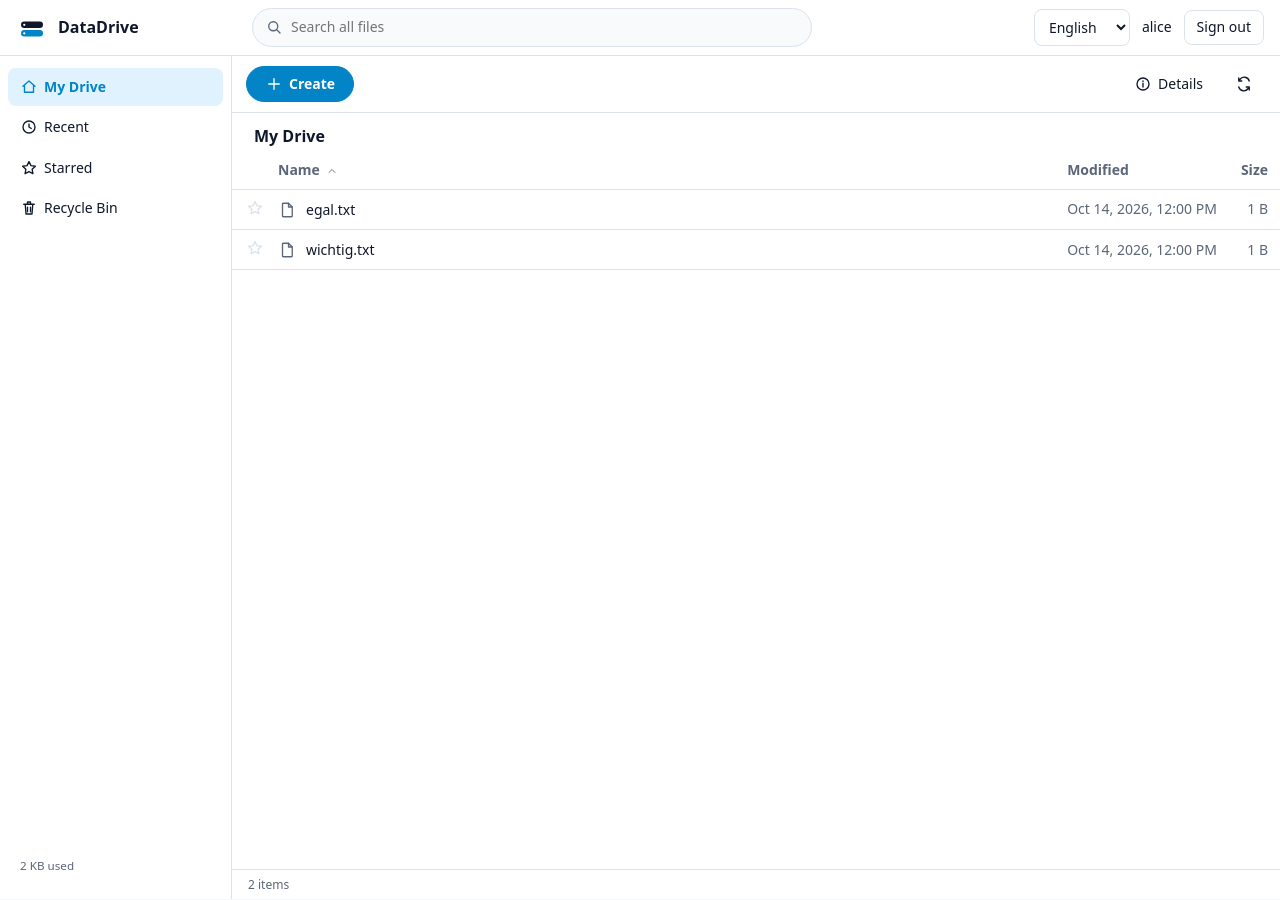
Test: stars › stars an item, lists it under Starred and removes it from there again
Expected: the element named "Actions" is shown, [232,56,1279,113]
Click the button named "Add star" next to "wichtig.txt": (255, 248) [244,237,266,259]
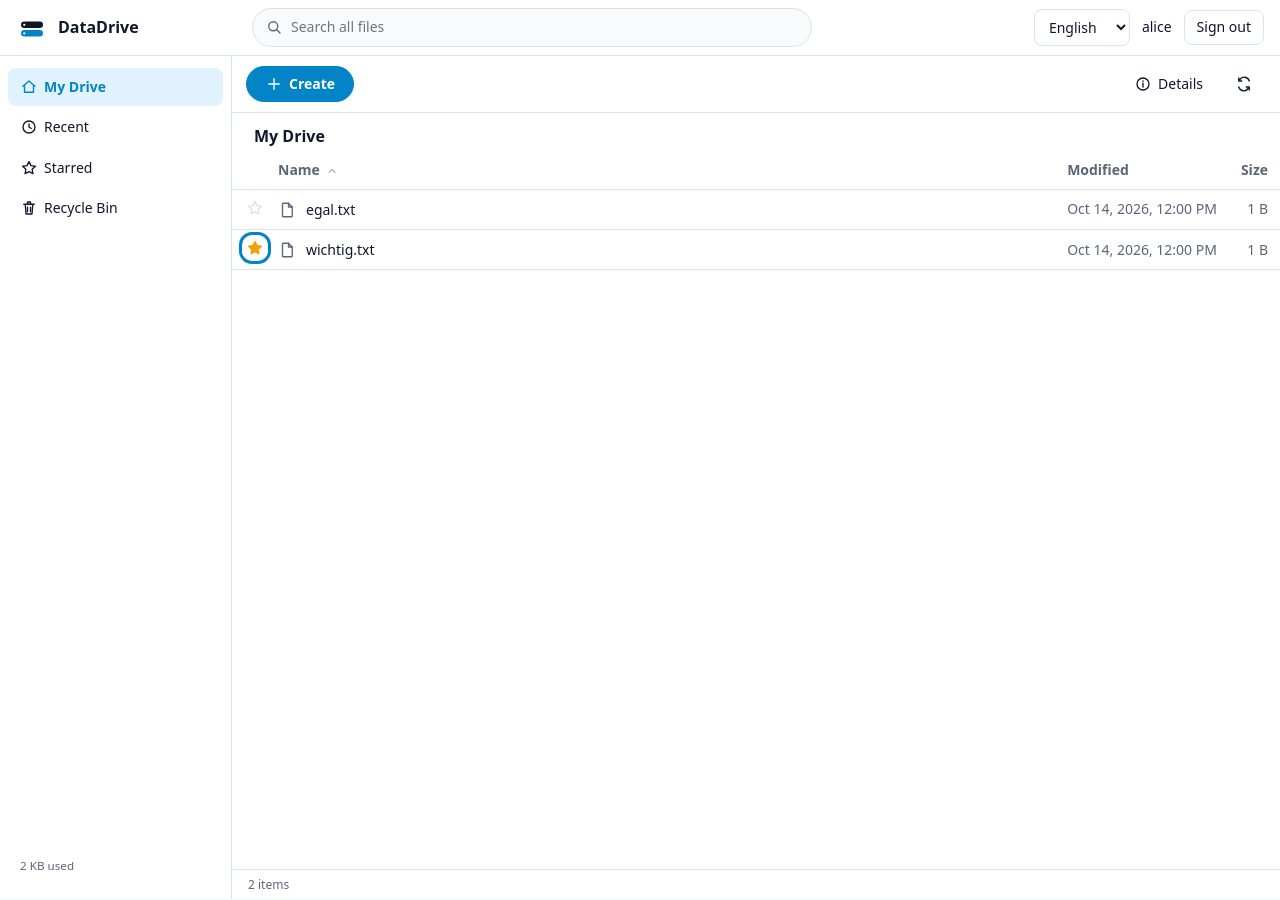
Result: the button named "Remove star" is pressed at [244,237,266,259]
Click the button "Starred": (116, 168) [8,149,223,187]
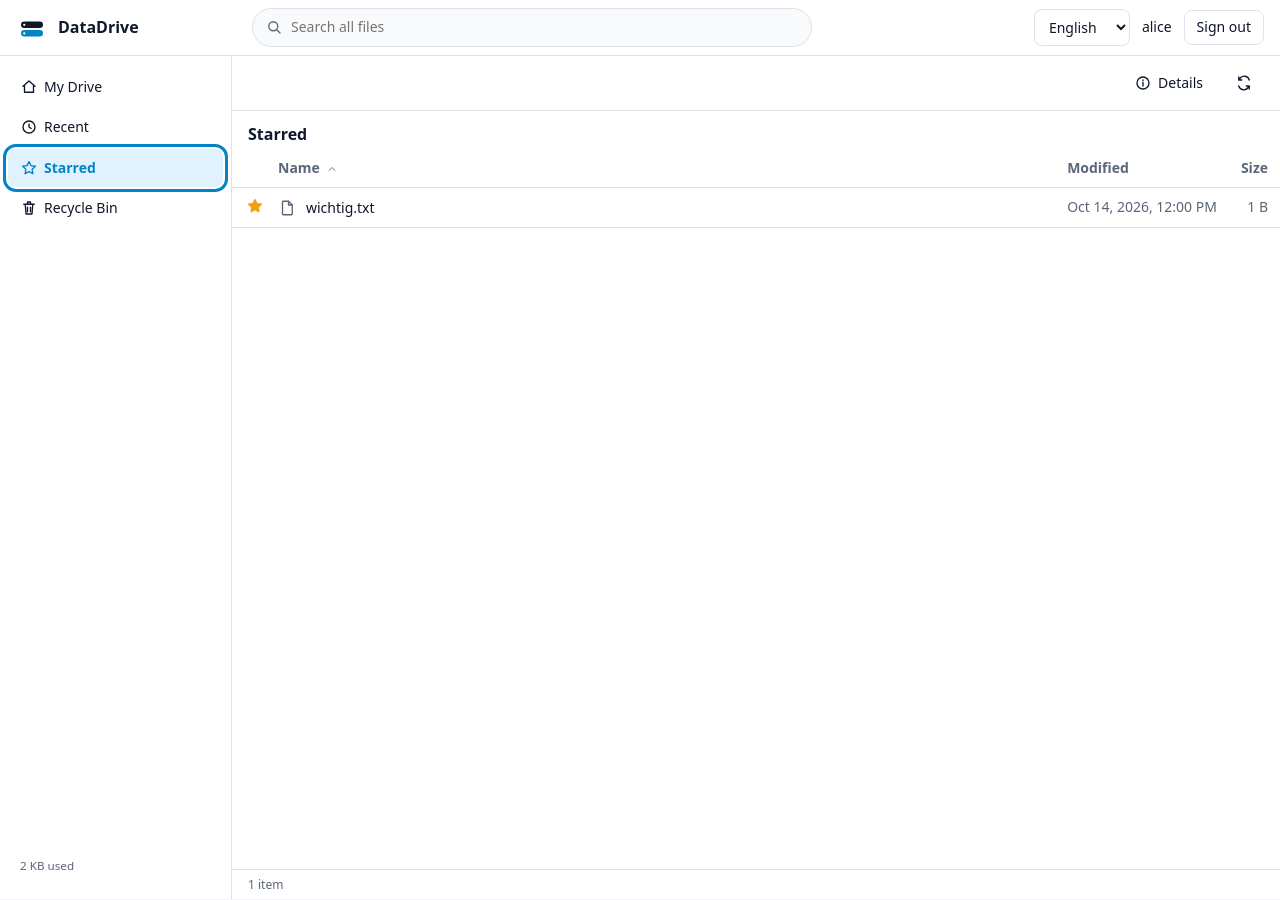
Expected: the row "wichtig.txt Oct 14, 2026, 12:00 PM 1 B" is shown, [232,187,1279,228]
Result: the text "egal.txt" is gone
Click the button named "Remove star": (255, 206) [244,195,266,217]
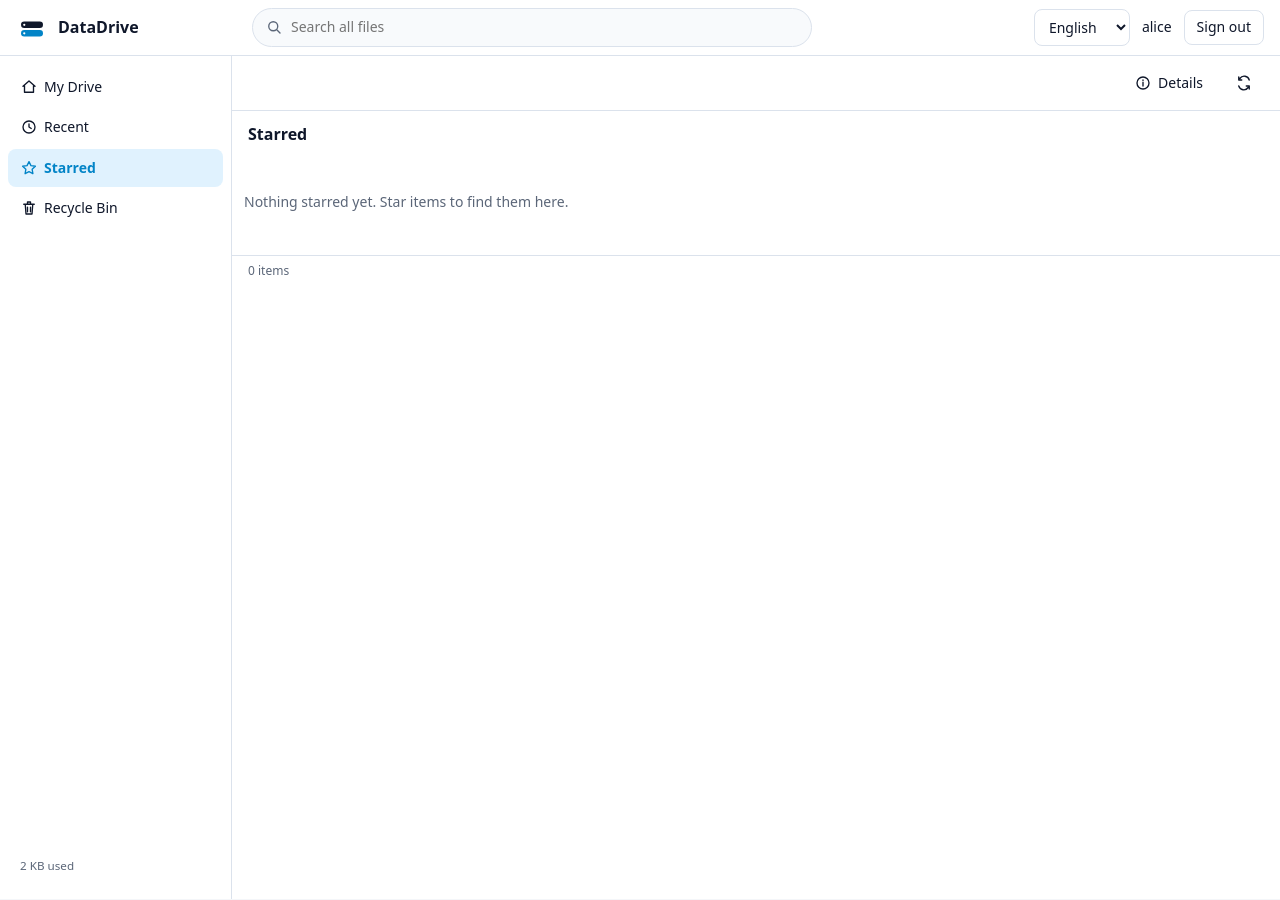
Result: the text "Nothing starred yet. Star items to find them here." is shown at [244,192,568,212]
